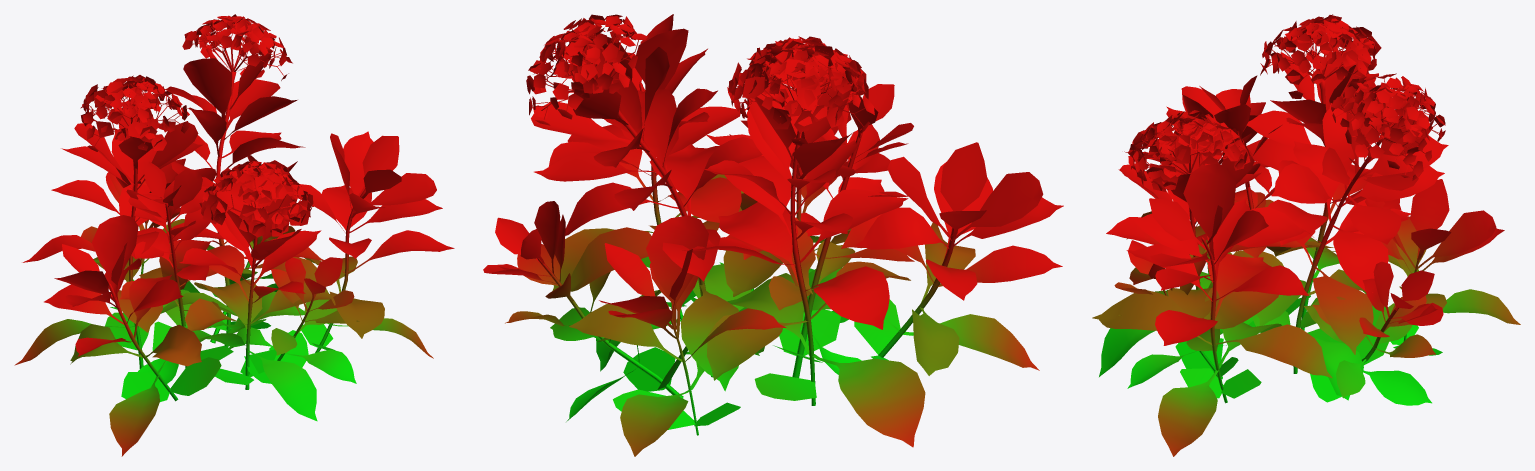
File: Var6_LOD2.fbx
3 views of the same model, side by side, from view 1: azimuth 30°, elevation 25°; view 2: azimuth 150°, elevation 25°; view 3: azimuth 270°, elevation 25° (orthographic). The views are drawn at different scales.
Parts seen in each view (by area): view 1: _f4ox_Var6_LOD2; view 2: _f4ox_Var6_LOD2; view 3: _f4ox_Var6_LOD2.
Boxes of the visible parts, x1,y1,x2,y2 form: _f4ox_Var6_LOD2: [14, 14, 454, 456]; _f4ox_Var6_LOD2: [483, 14, 1063, 456]; _f4ox_Var6_LOD2: [1092, 14, 1520, 456].
Bounding box in the file's own units: 78.19 × 58.57 × 69.82.
